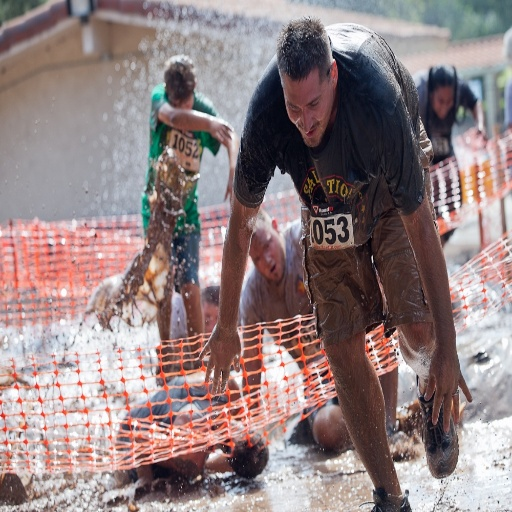hand: (423, 349, 473, 438), (205, 320, 238, 386), (208, 113, 233, 149), (222, 170, 235, 205), (474, 121, 488, 140)
